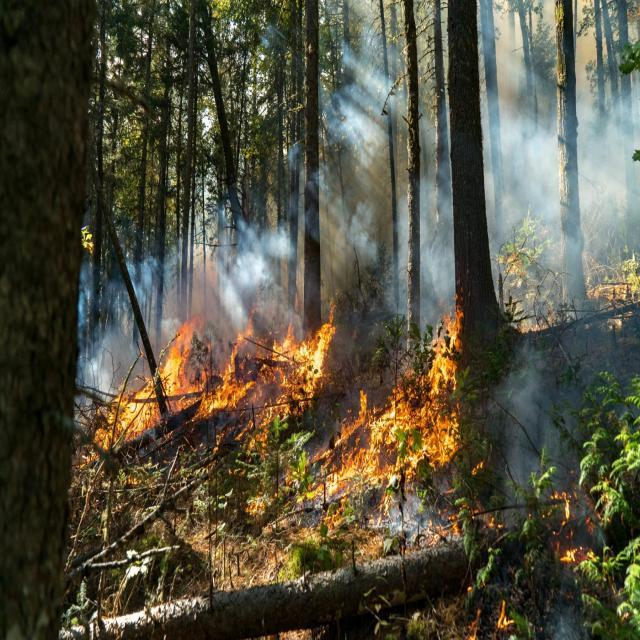Fire: (87, 311, 460, 477), (86, 316, 210, 463), (210, 284, 268, 477), (268, 295, 344, 439), (353, 388, 461, 484), (356, 486, 514, 545), (536, 476, 599, 584), (458, 581, 528, 640), (421, 306, 464, 395), (161, 320, 207, 370)
Smoke: (583, 63, 640, 297), (487, 116, 554, 310), (512, 362, 570, 472)
